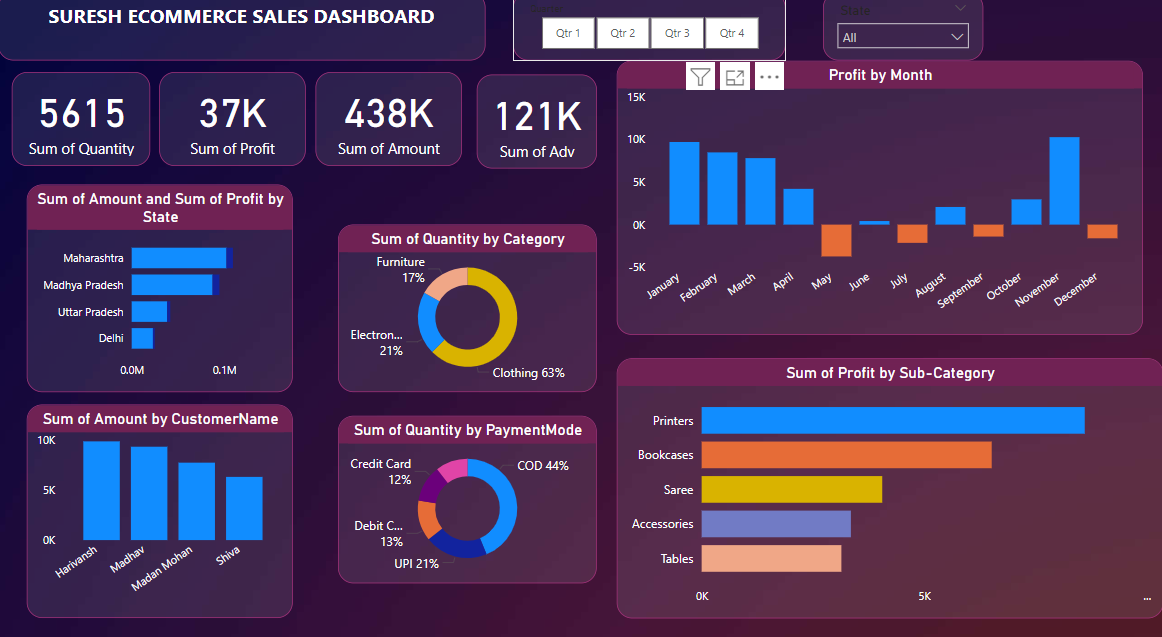

This screenshot's page, from the dashboard's own definition file:
{"tool":"powerbi","page":{"name":"Page 1","canvas":[1280,720],"ordinal":0},"visuals":[{"type":"textbox","box":[0,0,535.2,75.5],"z":0},{"type":"columnChart","title":" Profit by Month","fields":{"Category":["Orders.Order Date.Variation.Date Hierarchy.Month"],"Y":["Details (1).Profit"]},"box":[679.2,75.5,577.7,300.5],"z":1000},{"type":"barChart","fields":{"Category":["Details (1).Sub-Category"],"Y":["Details (1).Profit"]},"box":[679.2,402.1,599.7,285.4],"z":1001},{"type":"donutChart","fields":{"Category":["Details (1).Category"],"Y":["Details (1).Quantity"]},"box":[373.2,255.2,284,183.9],"z":1002},{"type":"donutChart","fields":{"Y":["Details (1).Quantity"],"Category":["Details (1).PaymentMode"]},"box":[373.2,465.2,284,183.9],"z":1003},{"type":"card","fields":{"Values":["Details (1).Quantity"]},"box":[15.1,87.8,152.3,102.9],"z":1004},{"type":"card","fields":{"Values":["Details (1).Profit"]},"box":[177,87.8,160.5,102.9],"z":1005},{"type":"card","fields":{"Values":["Details (1).Amount"]},"box":[348.5,87.8,160.5,102.9],"z":1006},{"type":"card","fields":{"Values":["Details (1).Adv"]},"box":[525.6,90.6,131.7,102.9],"z":1007},{"type":"barChart","fields":{"Y":["Details (1).Amount","Details (1).Profit"],"Category":["Orders.State"]},"box":[31.6,211.3,292.3,227.8],"z":1008},{"type":"columnChart","fields":{"Category":["Orders.CustomerName"],"Y":["Details (1).Amount"]},"box":[31.6,452.8,292.3,234.6],"z":1009},{"type":"slicer","fields":{"Values":["Orders.Order Date.Variation.Date Hierarchy.Quarter"]},"box":[565.4,0,299.1,75.5],"z":1010},{"type":"slicer","fields":{"Values":["Orders.State"]},"box":[905.7,0,175.6,75.5],"z":1011}]}

Visuals, with their boxes in screenshot pixels (x1, y1, x2, y2), scaled from the page's 1280x720 canvas onto the 1162x637 screenshot:
textbox: box=[0, 0, 486, 67]
" Profit by Month" columnChart: box=[617, 67, 1141, 333]
barChart - Details (1).Sub-Category x Details (1).Profit: box=[617, 356, 1161, 608]
donutChart - Details (1).Category x Details (1).Quantity: box=[339, 226, 597, 388]
donutChart - Details (1).Quantity x Details (1).PaymentMode: box=[339, 412, 597, 574]
card - Details (1).Quantity: box=[14, 78, 152, 169]
card - Details (1).Profit: box=[161, 78, 306, 169]
card - Details (1).Amount: box=[316, 78, 462, 169]
card - Details (1).Adv: box=[477, 80, 597, 171]
barChart - Details (1).Amount x Details (1).Profit: box=[29, 187, 294, 388]
columnChart - Orders.CustomerName x Details (1).Amount: box=[29, 401, 294, 608]
slicer - Orders.Order Date.Variation.Date Hierarchy.Quarter: box=[513, 0, 785, 67]
slicer - Orders.State: box=[822, 0, 982, 67]
